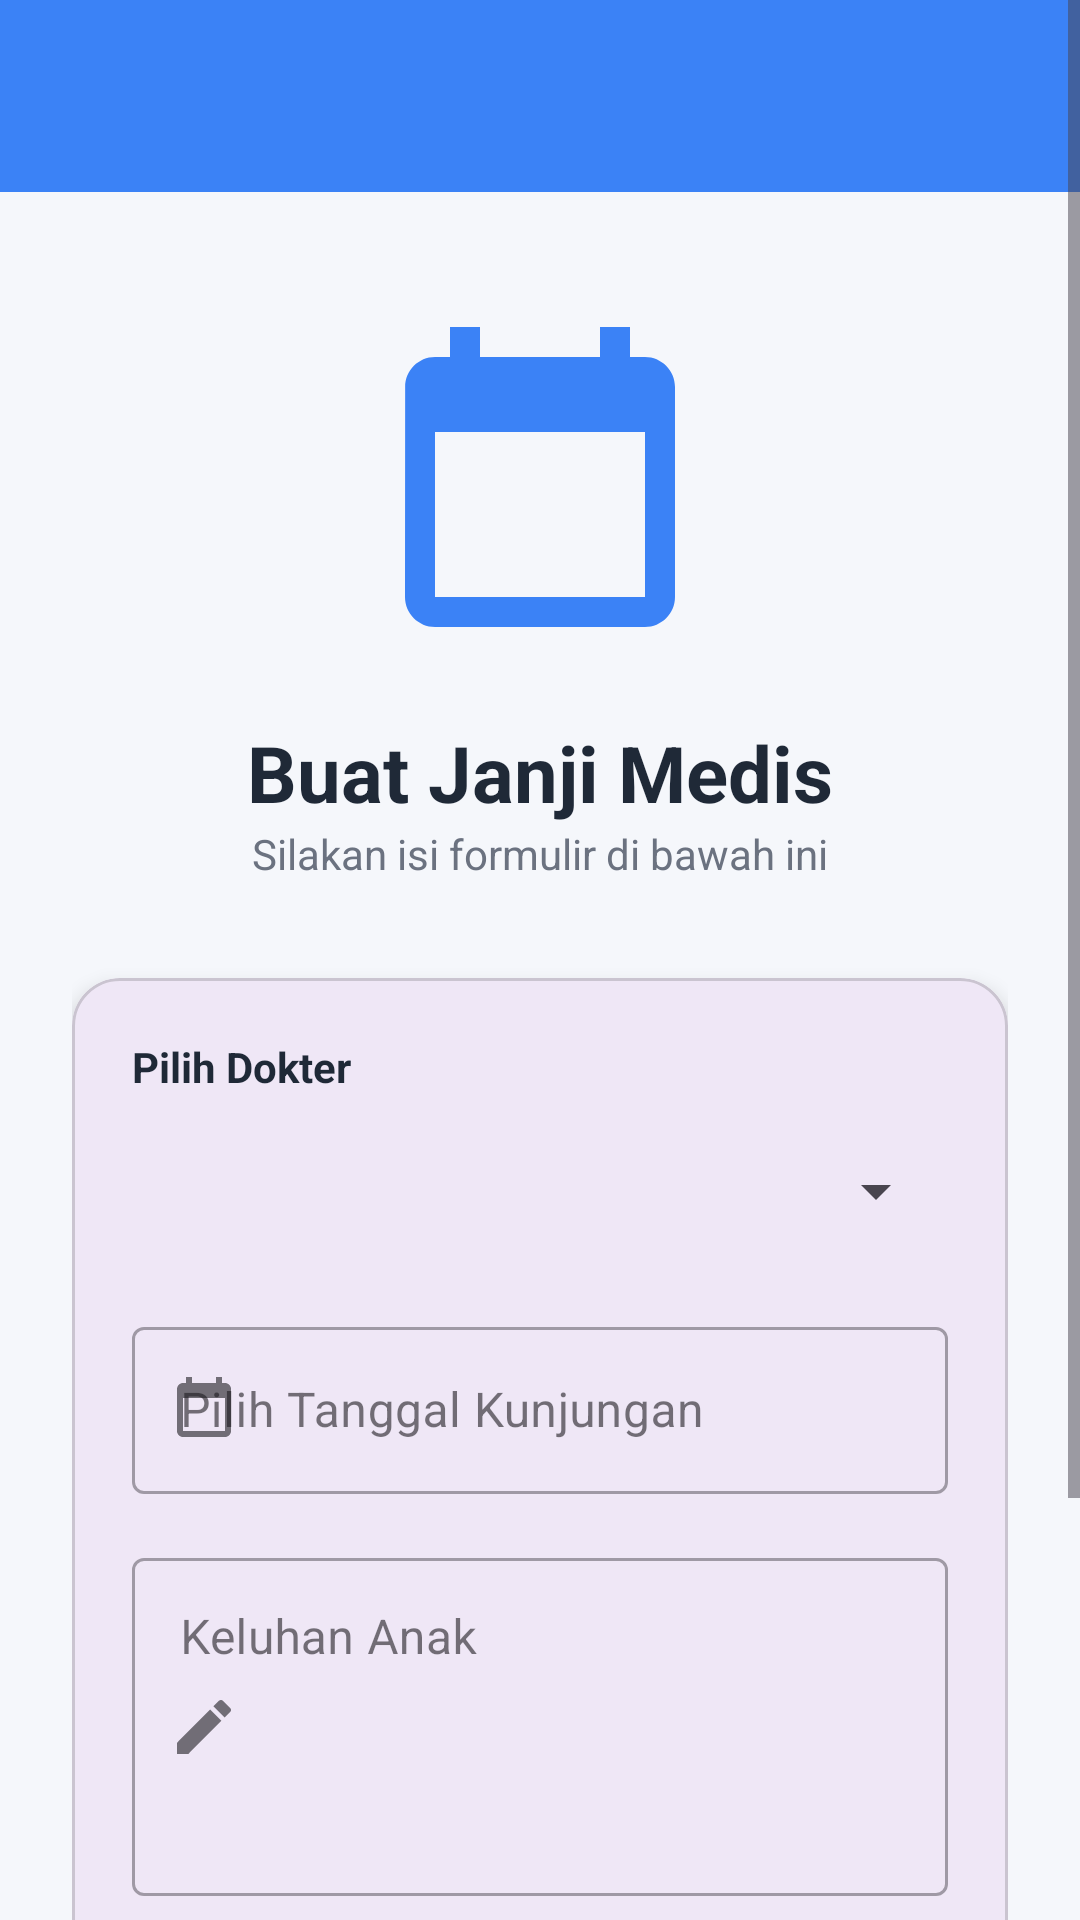

Screen size 1080w x 1920h. Icon name, then its center in pixels as [x,y]:
calendar: [540,477]
